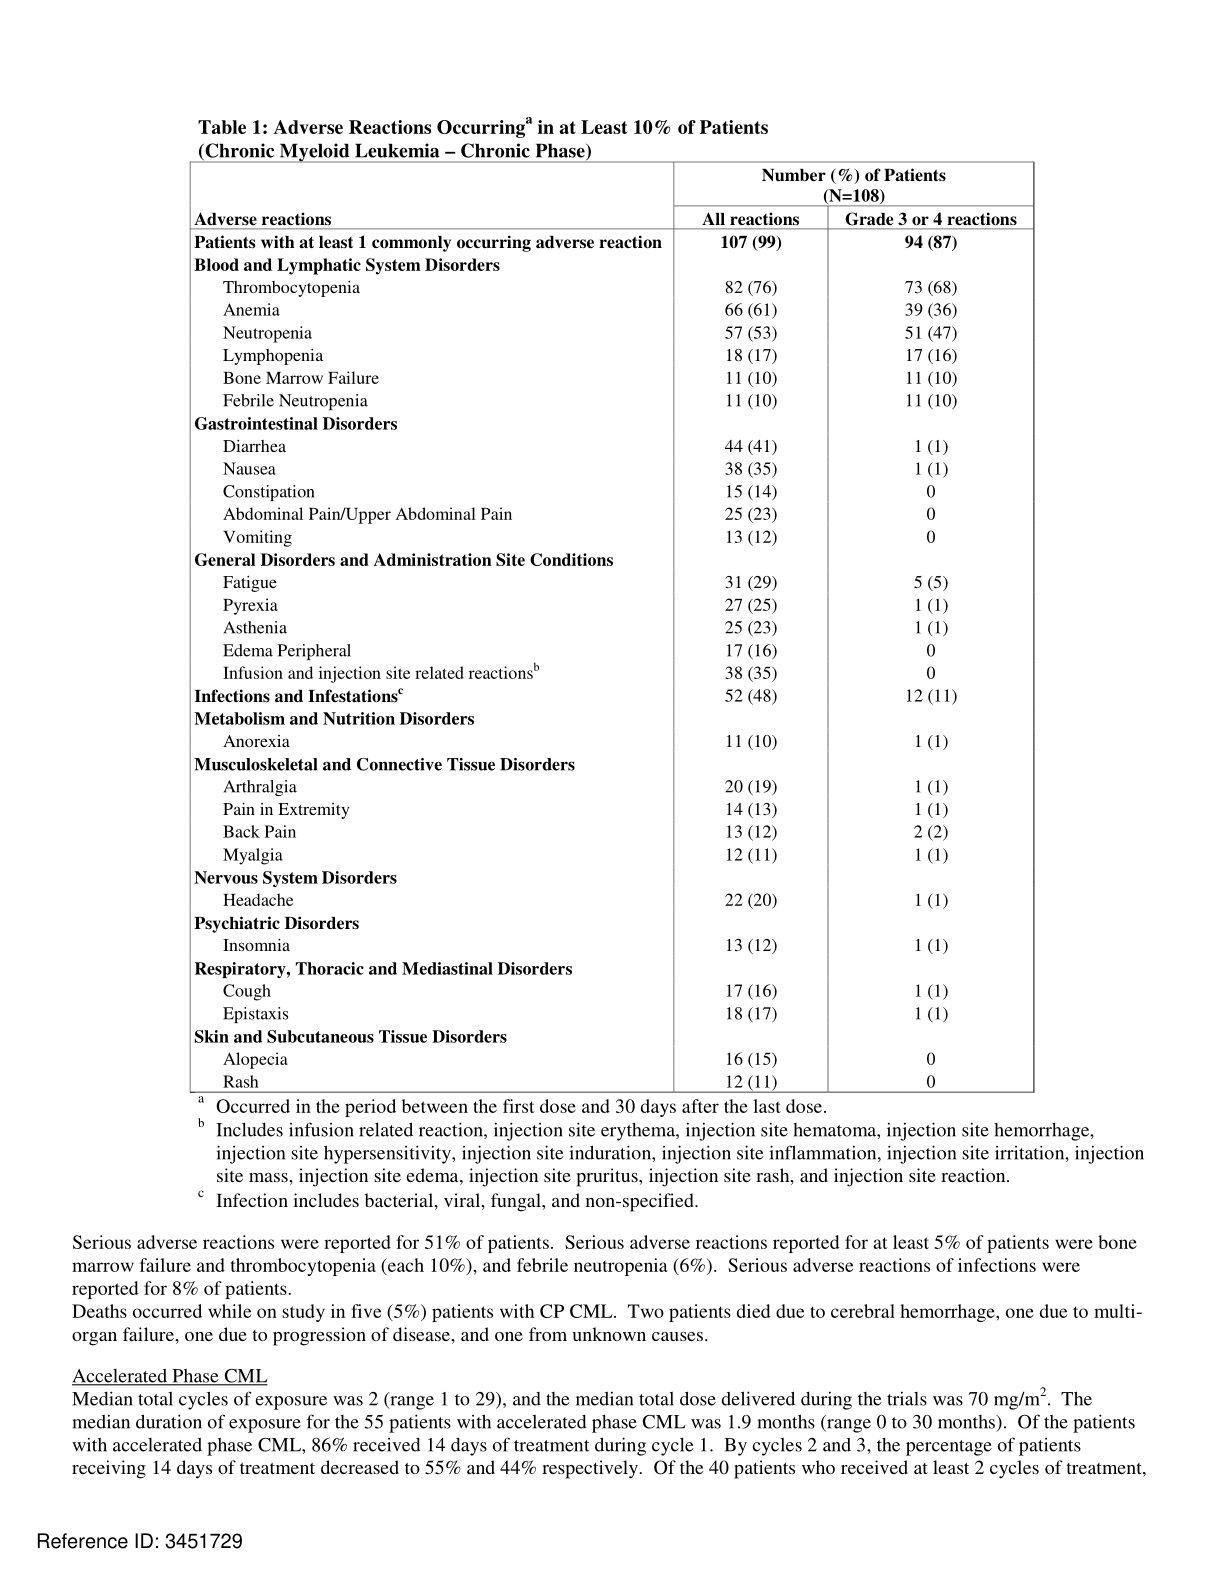partial_lined_merged_cells: (188, 159, 1038, 1095)
